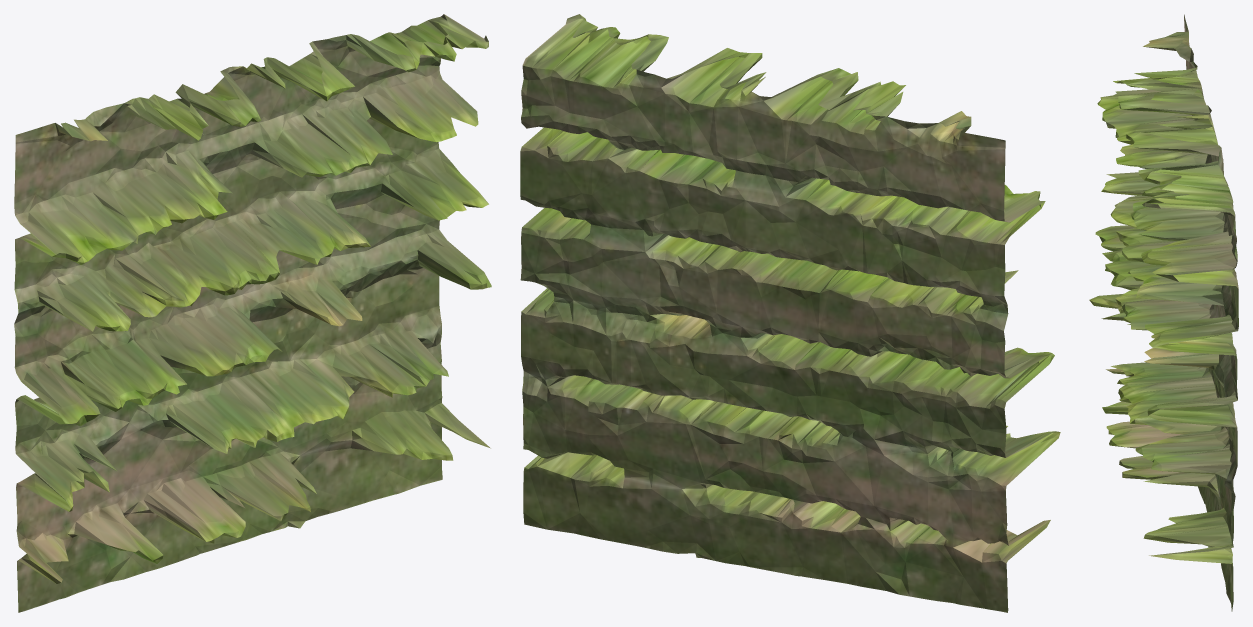
Rendered from map_130_60.obj.
3 views of the same model, side by side, from view 1: azimuth 30°, elevation 25°; view 2: azimuth 150°, elevation 25°; view 3: azimuth 270°, elevation 25° (orthographic). The views are drawn at different scales.
Visible parts, largest first — view 1: grp1; view 2: grp1; view 3: grp1.
Part boxes in pixels (bbox=[...]): grp1: bbox=[14, 14, 491, 612]; grp1: bbox=[520, 14, 1060, 612]; grp1: bbox=[1089, 14, 1238, 611].
Bounding box in the file's own units: 10 × 10 × 3.32.
1 material, 1 textured.
